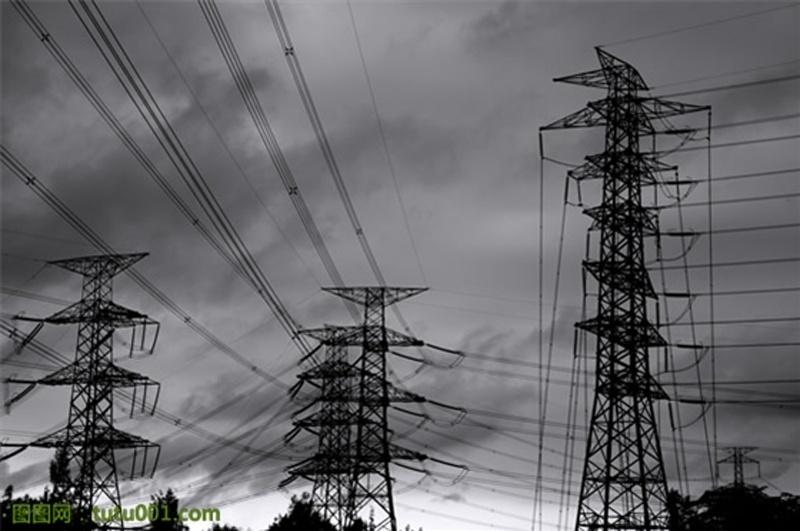power_tower: (534, 41, 719, 528), (28, 252, 157, 528), (305, 276, 421, 527)
